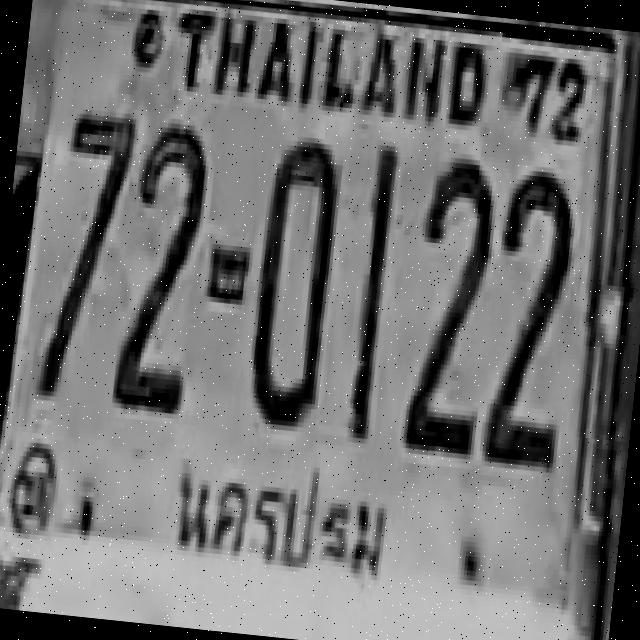0: (244, 134, 342, 428)
1: (344, 142, 400, 442), (0, 150, 42, 454)
2: (475, 163, 580, 472), (111, 118, 212, 416), (400, 155, 500, 454)
7: (34, 106, 138, 402), (42, 108, 136, 396)
NakhonPathom: (154, 449, 401, 597)
